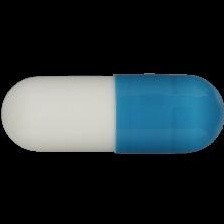69189-3228: (0, 0, 224, 224)
